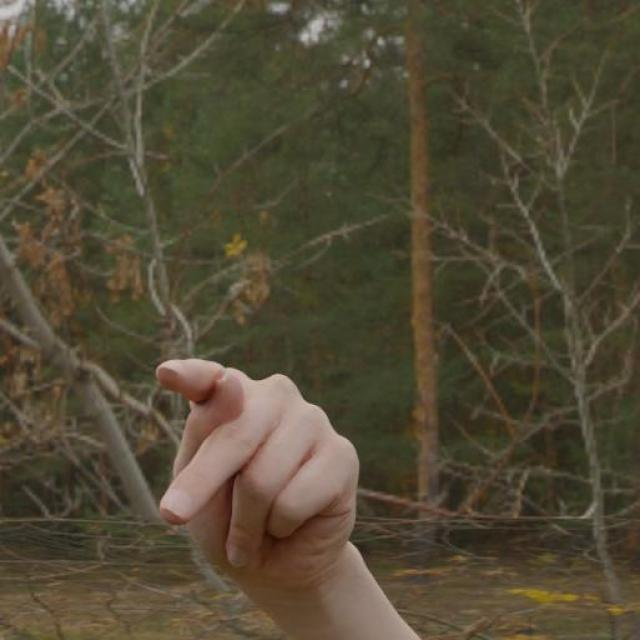P: (152, 352, 366, 607)
